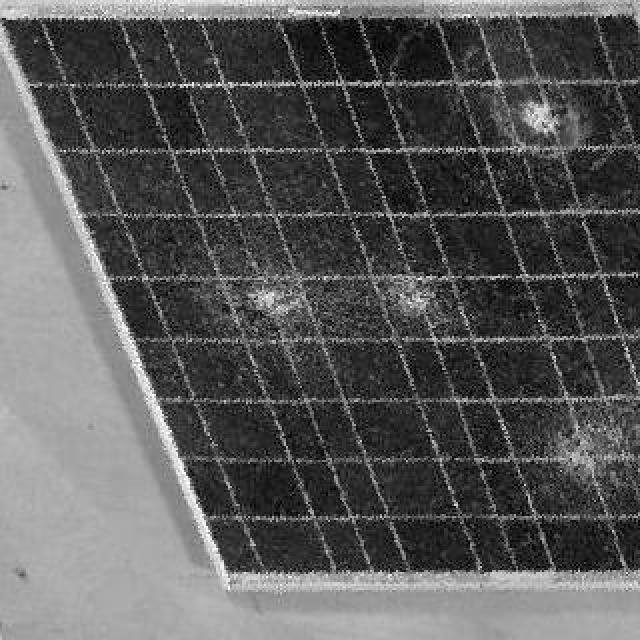Dusty: (25, 8, 634, 583)
Physical-damage: (497, 59, 593, 178), (215, 259, 334, 353), (539, 411, 639, 514), (377, 263, 457, 338)
